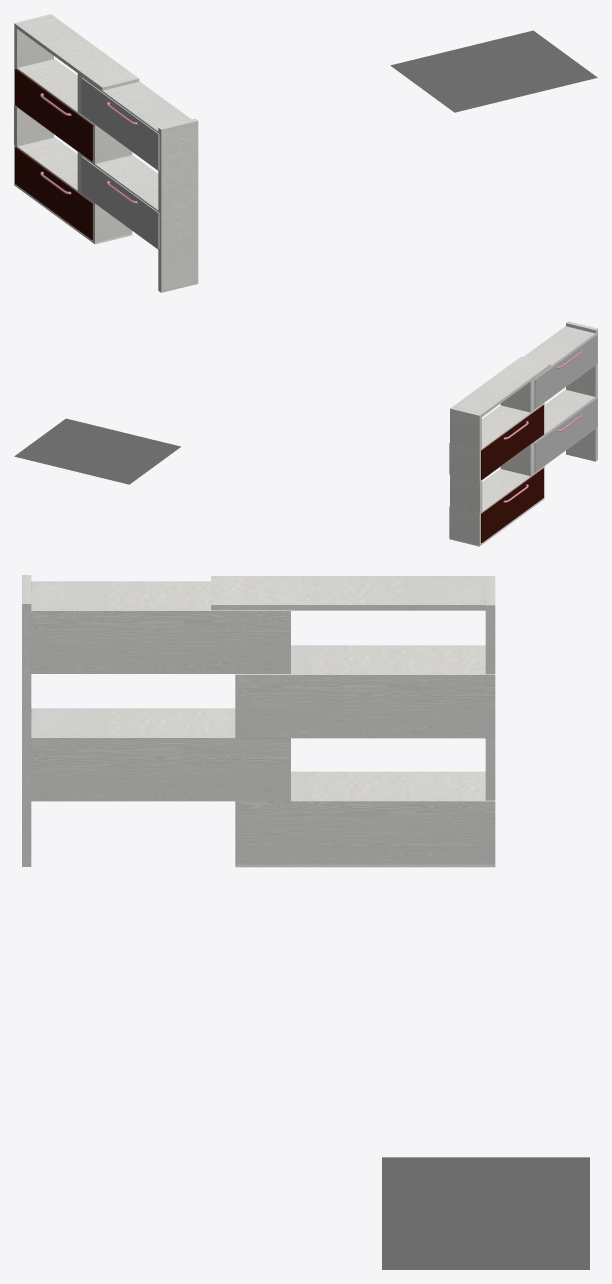
Rendered from Modern-Shelves.obj.
The picture shows the model from 3 angles, top to bottom: view 1: azimuth 30°, elevation 25°; view 2: azimuth 150°, elevation 25°; view 3: azimuth 270°, elevation 25°; orthographic projection. The views are drawn at different scales.
Parts seen in each view (by area): view 1: Plane001, Box013, Box012, Box008, Box010, Box005, Box003, Box006, Box001, Box009, Box007, Box011 (+1 smaller); view 2: Plane001, Box006, Box012, Box001, Box009, Box007, Box008, Box010, Box003, Box005, Box013, Box011 (+1 smaller); view 3: Plane001, Box007, Box006, Box001, Box009, Box012, Box013, Box011, Box002.
Boxes of the visible parts, x1,y1,x2,y2 form: Plane001: (390,30,597,112); Box013: (158,118,198,292); Box012: (17,16,139,90); Box008: (81,156,159,249); Box010: (81,77,159,170); Box005: (15,69,92,161); Box003: (15,147,92,239); Box006: (14,58,132,163); Box001: (14,137,132,242); Box009: (77,73,191,170); Box007: (77,152,158,249); Box011: (14,14,53,67); Plane001: (14,418,180,484); Box006: (449,403,544,481); Box012: (452,356,550,416); Box001: (449,466,544,545); Box009: (500,326,595,412); Box007: (500,389,595,476); Box008: (534,397,597,472); Box010: (534,334,597,408); Box003: (481,468,543,542); Box005: (481,405,543,479); Box013: (566,321,597,461); Box011: (450,407,481,450); Plane001: (382,1157,589,1269); Box007: (31,708,290,801); Box006: (235,645,495,738); Box001: (235,771,495,864); Box009: (31,581,290,673); Box012: (211,576,485,610); Box013: (22,575,31,866); Box011: (485,576,495,674); Box002: (235,864,495,867).
Size of the model in its own units: 295 by 83.32 by 163.
